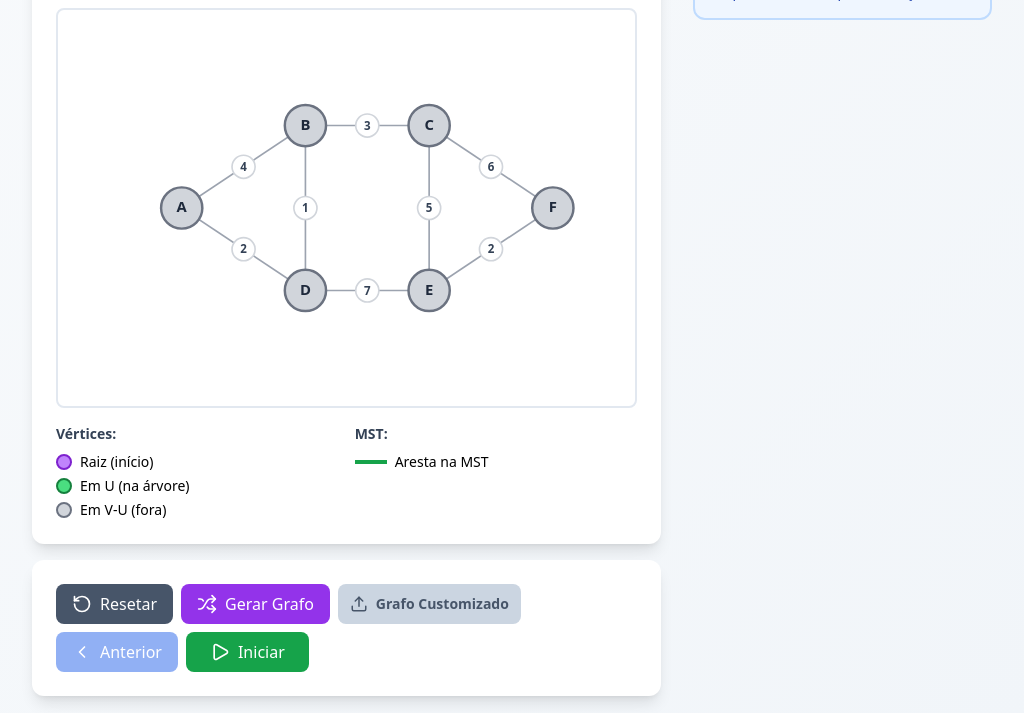
Test case: PrimSimulator Integration › should show sets panel
(page scrolled)
Click the button with test id "start-button" at {"x": 247, "y": 652}, box x1=186 y1=632 x2=309 y2=672
(page scrolled)
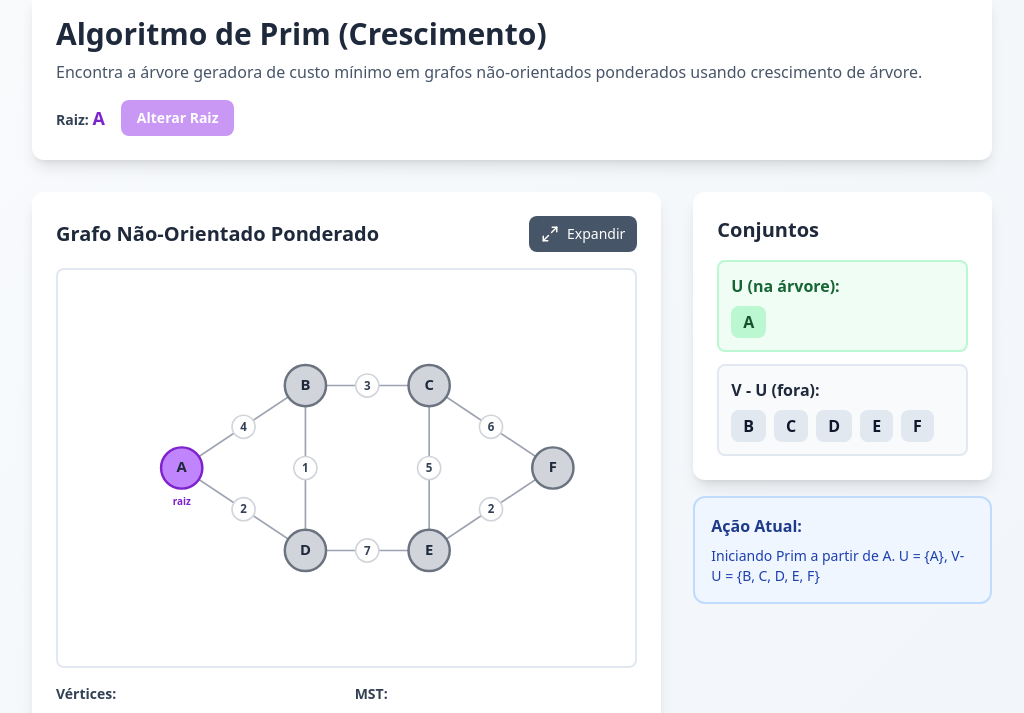
Expected: the element with test id "sets-panel" is shown, x1=693 y1=192 x2=992 y2=480
